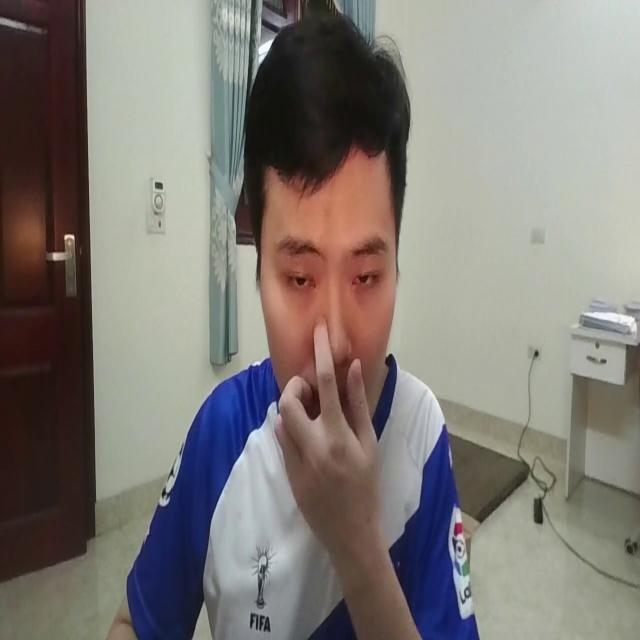student: (116, 10, 488, 640)
